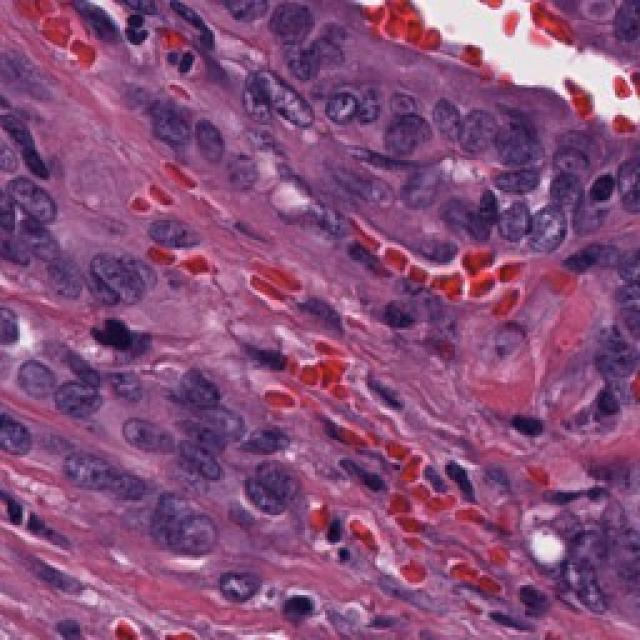abnormal: (241, 54, 321, 138), (164, 493, 227, 569), (81, 248, 154, 308), (112, 411, 181, 474), (378, 95, 438, 167), (521, 200, 585, 266), (139, 88, 197, 160), (582, 323, 640, 395), (241, 0, 320, 51), (185, 400, 251, 460), (246, 459, 297, 533), (455, 101, 497, 170), (0, 406, 37, 466), (326, 82, 362, 135)
